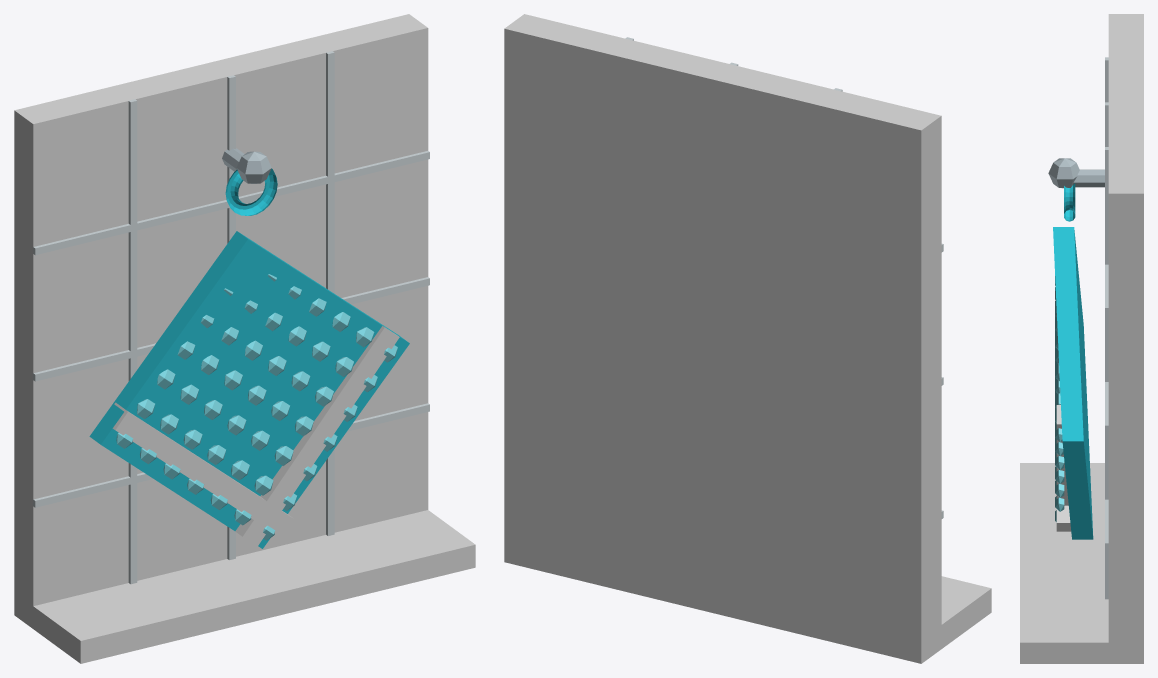
Rendered from tvattlapp.glb.
3 views of the same model, side by side, from view 1: azimuth 30°, elevation 25°; view 2: azimuth 150°, elevation 25°; view 3: azimuth 270°, elevation 25° (orthographic). The views are drawn at different scales.
Parts seen in each view (by area): view 1: tvattlapp; view 2: tvattlapp; view 3: tvattlapp.
Part boxes in pixels (x1,y1,x2,y2): tvattlapp: [14, 14, 475, 663]; tvattlapp: [504, 14, 991, 663]; tvattlapp: [1020, 14, 1143, 663].
Size of the model in its own units: 0.36 by 0.44 by 0.105.
